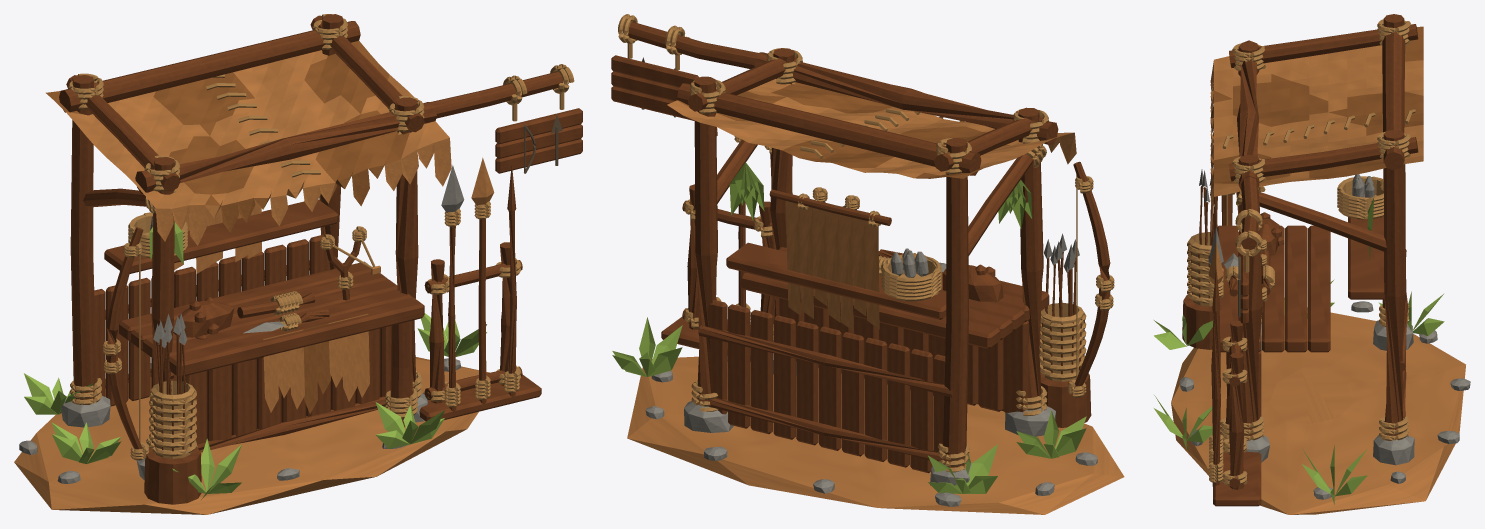
File: weapon_stall.glb
The picture shows the model from 3 angles, left to right: view 1: azimuth 30°, elevation 25°; view 2: azimuth 150°, elevation 25°; view 3: azimuth 270°, elevation 25°; orthographic projection. The views are drawn at different scales.
Visible parts, largest first — view 1: Sandy ground, Draped spotted hide roof, Draped spotted hide roof.001, Main support post, Counter top plank.004, Roof crossbeam, Roof crossbeam.001, Rear display shelf, Main support post.003, Main support post.001, Quiver display stump, Counter top plank (+47 smaller); view 2: Sandy ground, Draped spotted hide roof, Main support post, Roof crossbeam, Main support post.002, Draped spotted hide roof.001, Roof crossbeam.001, Main support post.001, Rear display shelf, Counter top plank, Back wall rail.001, Back wall rail (+43 smaller); view 3: Sandy ground, Draped spotted hide roof, Draped spotted hide roof.001, Main support post.002, Counter top plank.001, Counter top plank, Main support post.003, Roof crossbeam, Rear display shelf, Roof side beam, Roof side beam.001, Rear side brace.001 (+24 smaller).
Boxes of the visible parts, x1=… form: Sandy ground: x1=14, y1=357, x2=489, y2=514; Draped spotted hide roof: x1=66, y1=50, x2=449, y2=208; Draped spotted hide roof.001: x1=46, y1=40, x2=409, y2=205; Main support post: x1=70, y1=75, x2=96, y2=399; Counter top plank.004: x1=169, y1=297, x2=424, y2=376; Roof crossbeam: x1=59, y1=21, x2=360, y2=112; Roof crossbeam.001: x1=135, y1=102, x2=436, y2=193; Rear display shelf: x1=104, y1=199, x2=338, y2=273; Main support post.003: x1=395, y1=97, x2=418, y2=388; Main support post.001: x1=151, y1=157, x2=174, y2=384; Quiver display stump: x1=144, y1=446, x2=201, y2=504; Counter top plank: x1=119, y1=261, x2=371, y2=341; Sandy ground: x1=627, y1=356, x2=1124, y2=514; Draped spotted hide roof: x1=667, y1=79, x2=1073, y2=178; Main support post: x1=943, y1=138, x2=968, y2=467; Roof crossbeam: x1=677, y1=83, x2=981, y2=175; Main support post.002: x1=694, y1=76, x2=717, y2=399; Draped spotted hide roof.001: x1=677, y1=82, x2=1010, y2=178; Roof crossbeam.001: x1=754, y1=52, x2=1058, y2=144; Main support post.001: x1=1018, y1=107, x2=1043, y2=404; Rear display shelf: x1=726, y1=242, x2=946, y2=319; Counter top plank: x1=741, y1=272, x2=1000, y2=348; Back wall rail.001: x1=698, y1=325, x2=952, y2=397; Back wall rail: x1=698, y1=398, x2=952, y2=461; Sandy ground: x1=1171, y1=312, x2=1465, y2=514; Draped spotted hide roof: x1=1214, y1=45, x2=1423, y2=196; Draped spotted hide roof.001: x1=1214, y1=26, x2=1423, y2=183; Main support post.002: x1=1383, y1=129, x2=1406, y2=435; Counter top plank.001: x1=1285, y1=225, x2=1307, y2=352; Counter top plank: x1=1308, y1=225, x2=1330, y2=352; Main support post.003: x1=1238, y1=154, x2=1262, y2=436; Roof crossbeam: x1=1382, y1=32, x2=1405, y2=170; Rear display shelf: x1=1348, y1=216, x2=1384, y2=299; Roof side beam: x1=1229, y1=24, x2=1418, y2=67; Roof side beam.001: x1=1229, y1=137, x2=1418, y2=181; Rear side brace.001: x1=1259, y1=192, x2=1386, y2=252.
Size of the model in its own units: 5.19 by 3.45 by 2.89.
Materials: 8 (6 with a texture image).
